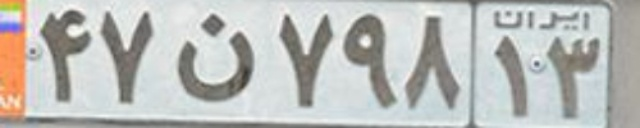1: (495, 35, 531, 116)
3: (545, 34, 603, 118)
4: (38, 8, 95, 103)
7: (98, 10, 162, 104), (277, 13, 335, 106)
8: (403, 14, 462, 109)
9: (342, 12, 395, 108)
non: (176, 14, 256, 101)
